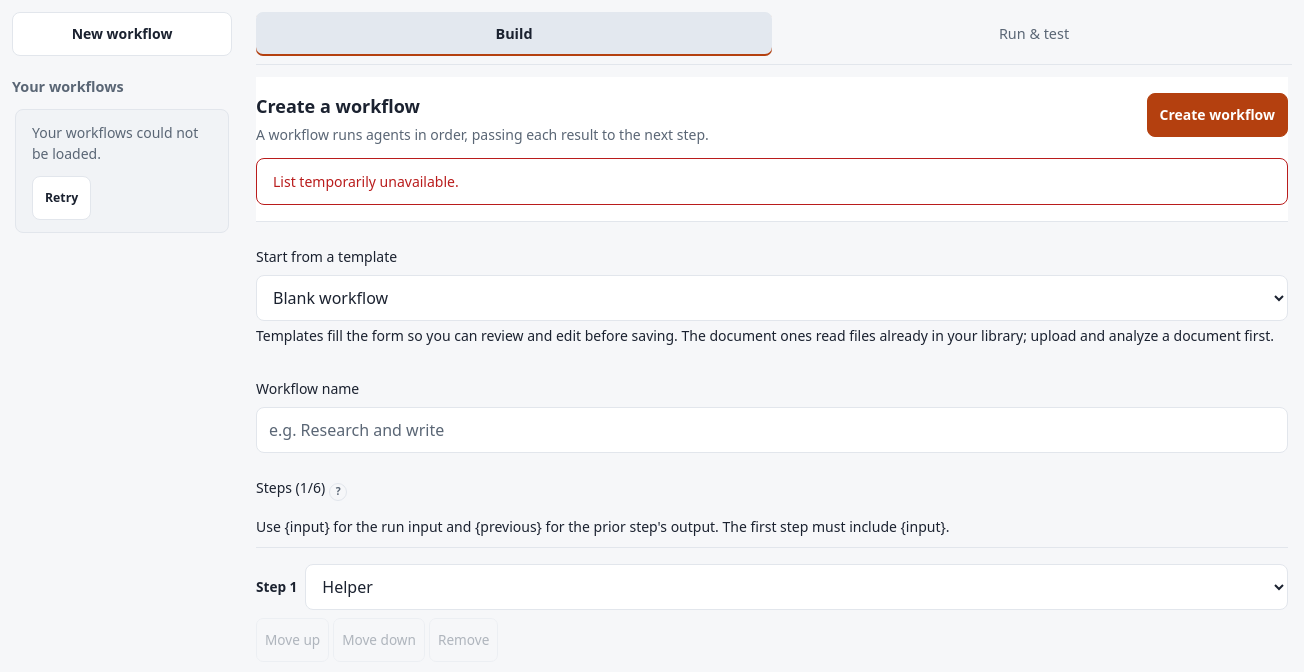
Scenario: WorkflowBuilder › distinguishes unavailable workflows from an empty saved list and retries
The width and height of the screenshot is (1304, 672).
Expected: the text "Your workflows could not be loaded. Retry" is shown, 15,109 -> 229,233
Expected: the text "Save your first workflow" is not shown
Click the button "Retry" at (62, 198), box 32,176 -> 91,220
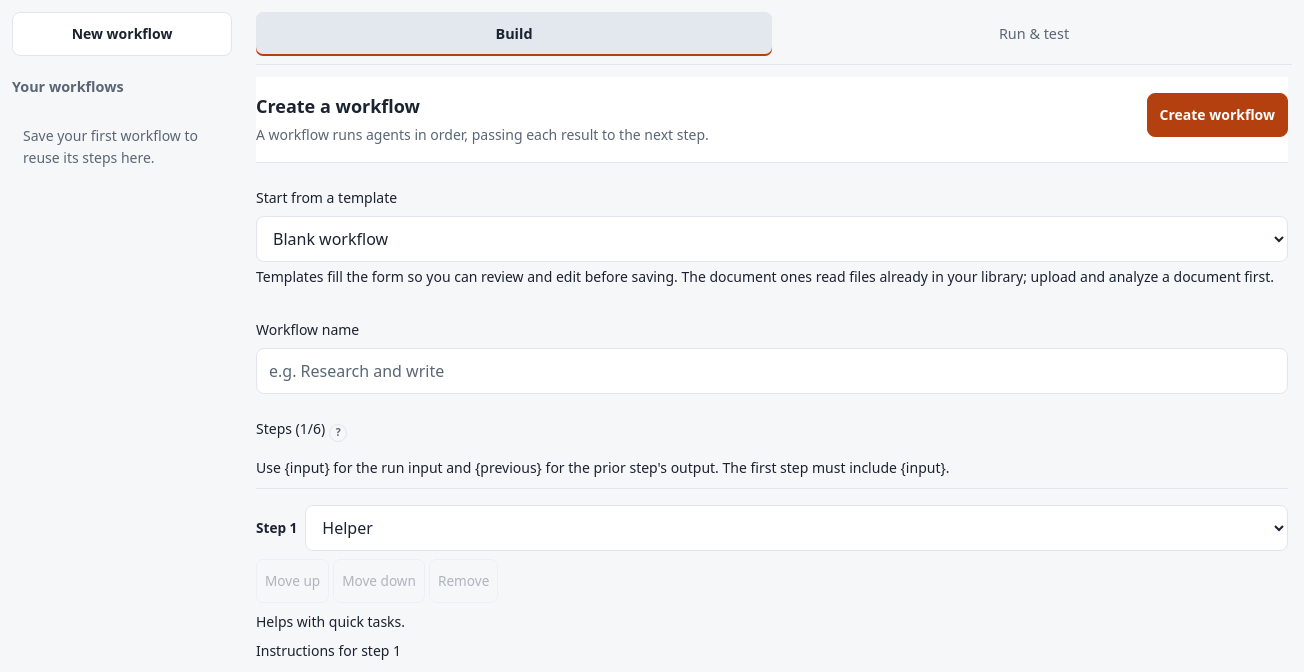
Result: the list item "Save your first workflow to reuse its steps here." is shown at 23,126 -> 198,167
Result: the message "Your workflows could not be loaded. Retry" is gone
